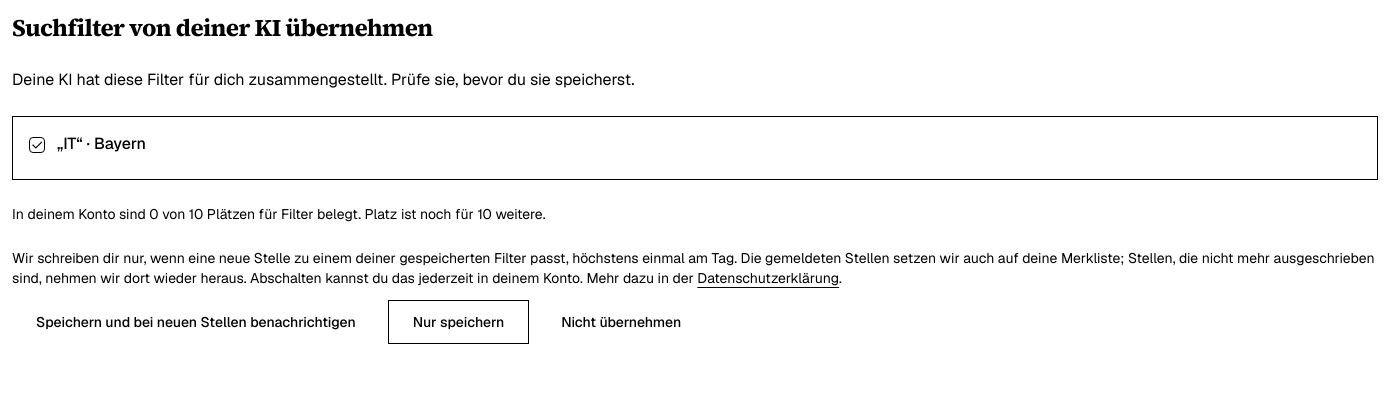
it: SuchprofilImport › zeigt die Meldung des Servers, wenn das Konto voll ist (409)
Click the button "Nur speichern": (458, 322) [388,300,529,344]
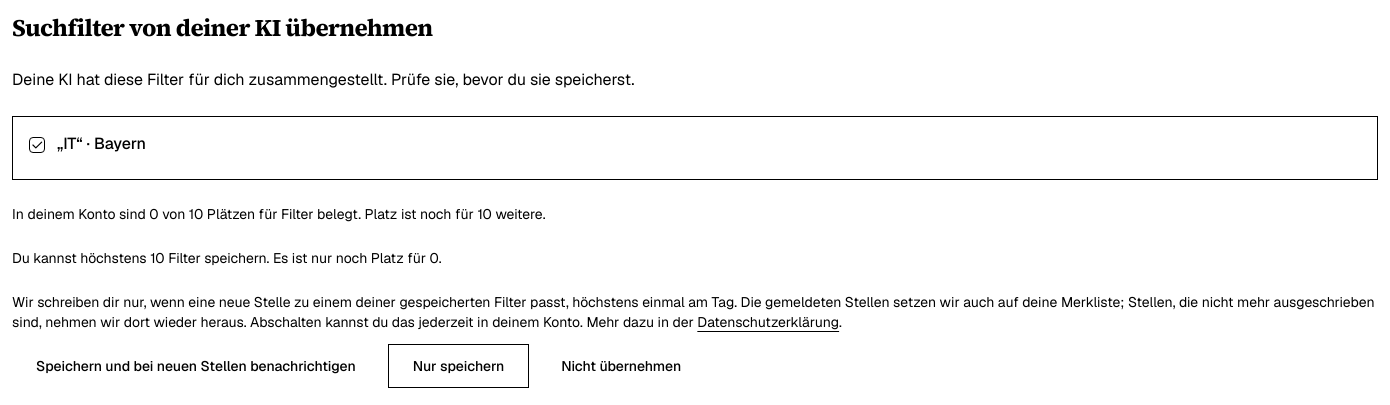
Expected: the button "Nur speichern" is shown, [388,344,529,388]
Expected: the text "Du kannst höchstens 10 Filter speichern. Es ist nur noch Platz für 0." is shown, [12,249,442,267]
